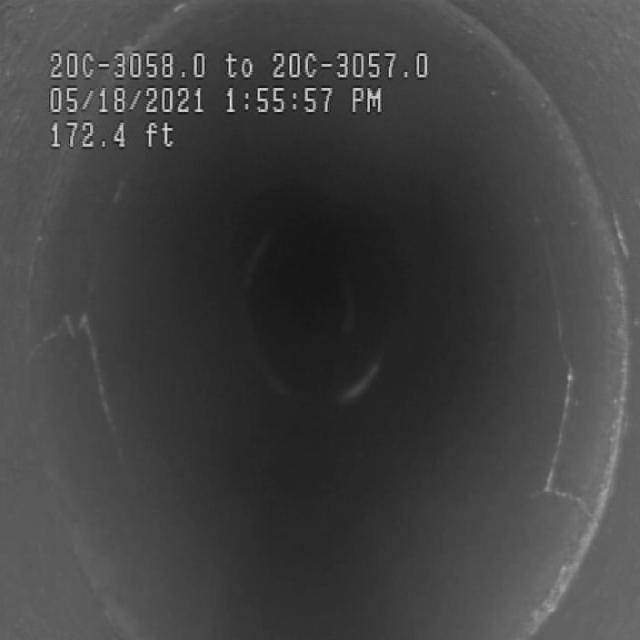Crack: (506, 182, 612, 514)
